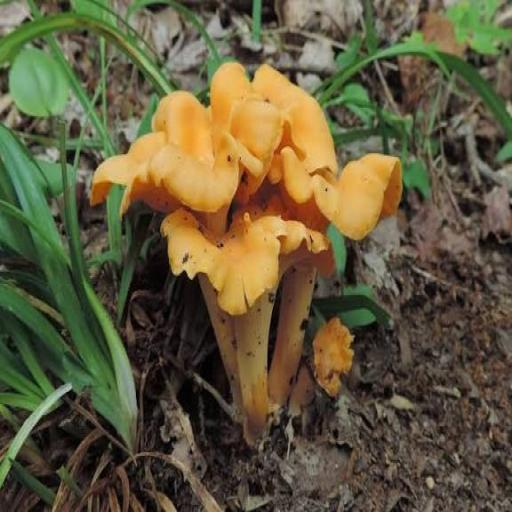Jack O Lantern Mushroom: (213, 54, 402, 446), (151, 197, 337, 463), (85, 97, 272, 239)
